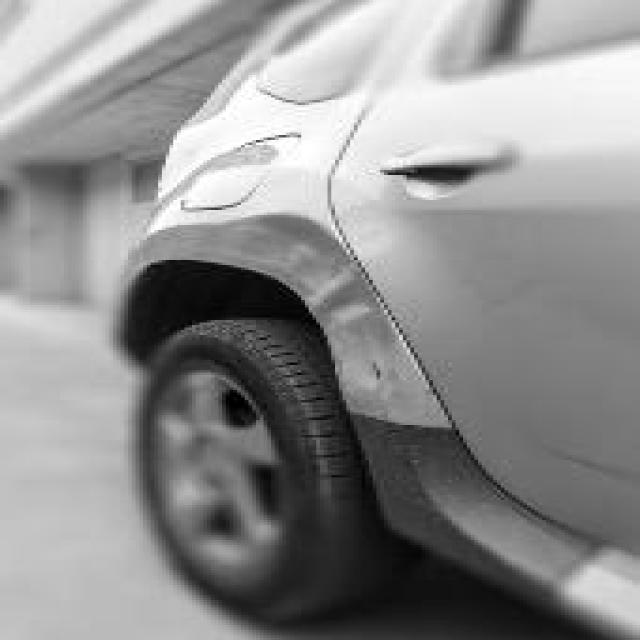Fender: (222, 205, 410, 442)
